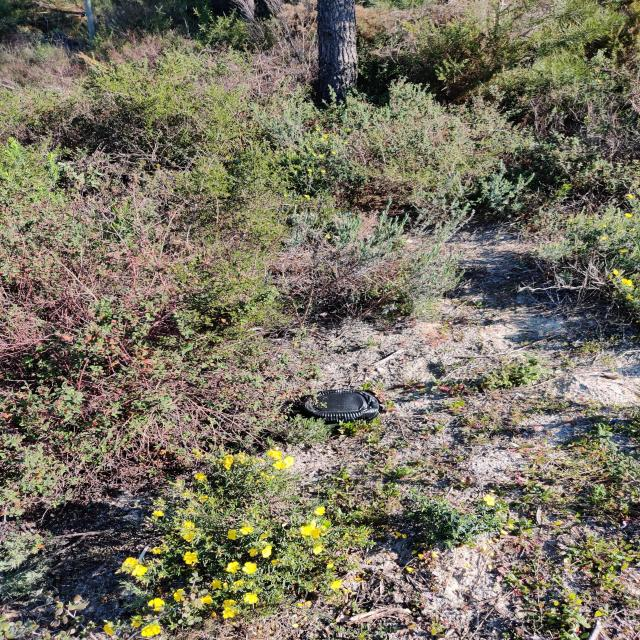litter: (301, 383, 388, 419)
